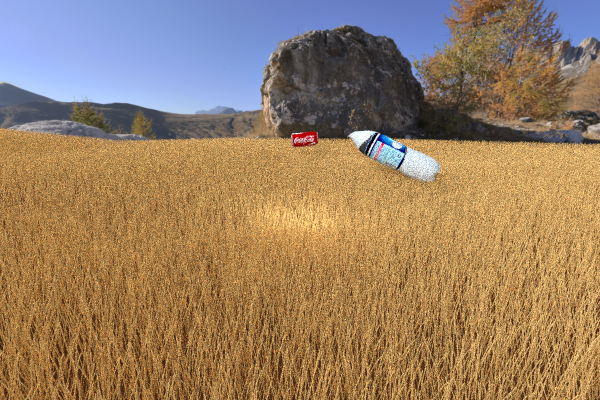bottle: (343, 128, 440, 183)
can: (453, 131, 537, 167), (290, 131, 318, 147)
